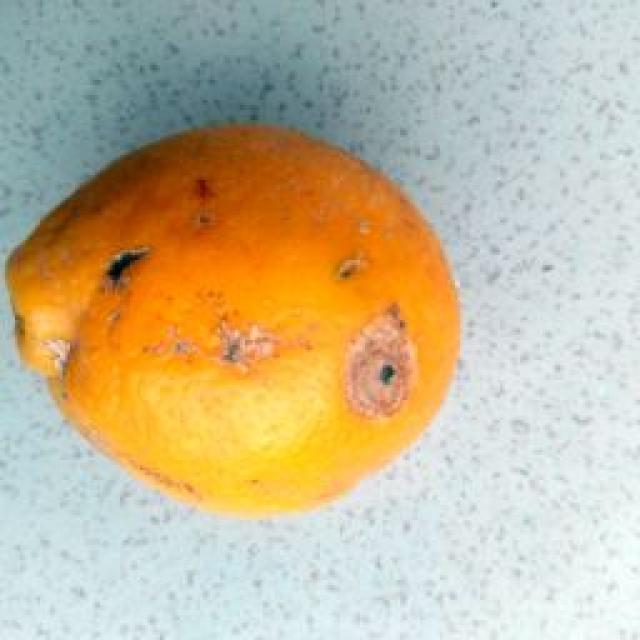Bad_Orange: (6, 126, 459, 517)
